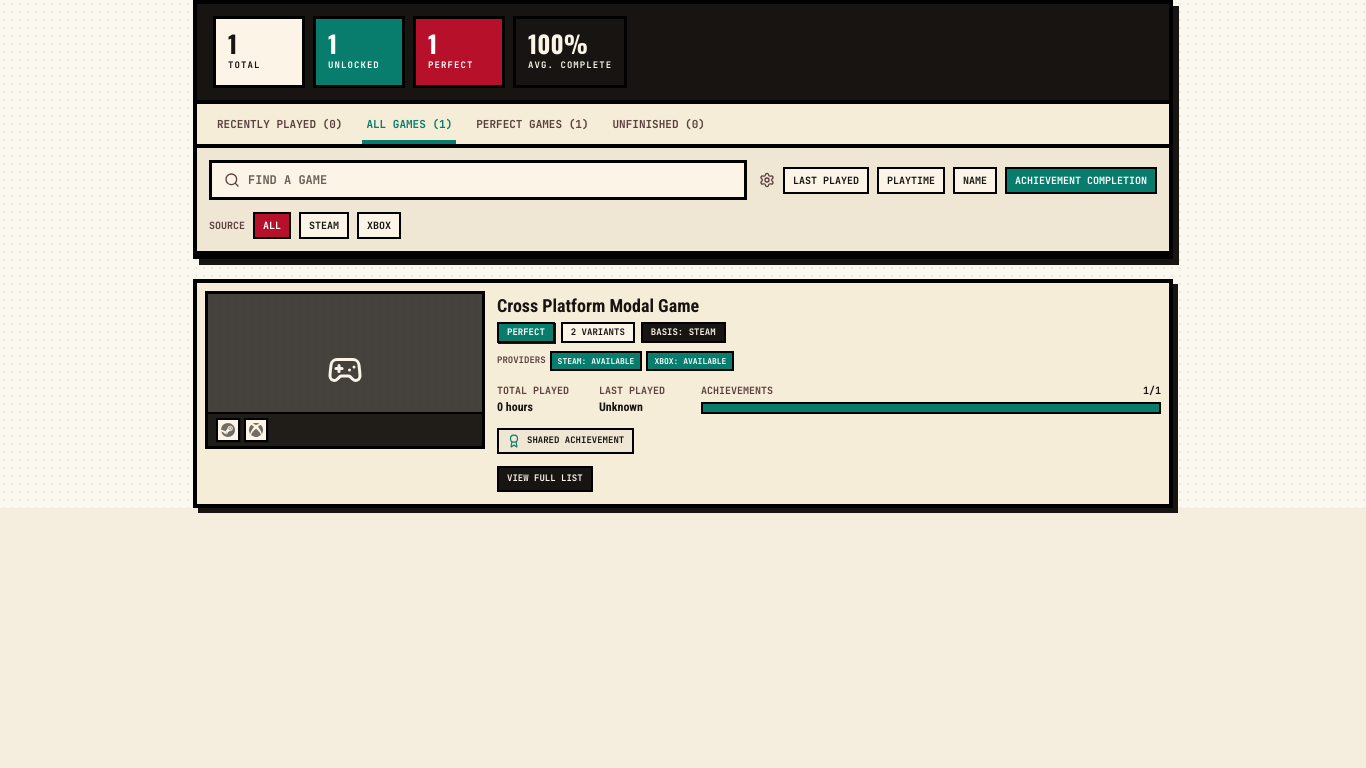
Test: AchievementsPage › keeps modal progress consistent with the row when additional achievements exist
Check: the text "1/1" is shown, box [1143,383,1161,398]
Click the button "View Full List": coordinates (545, 479) [497,466,593,492]
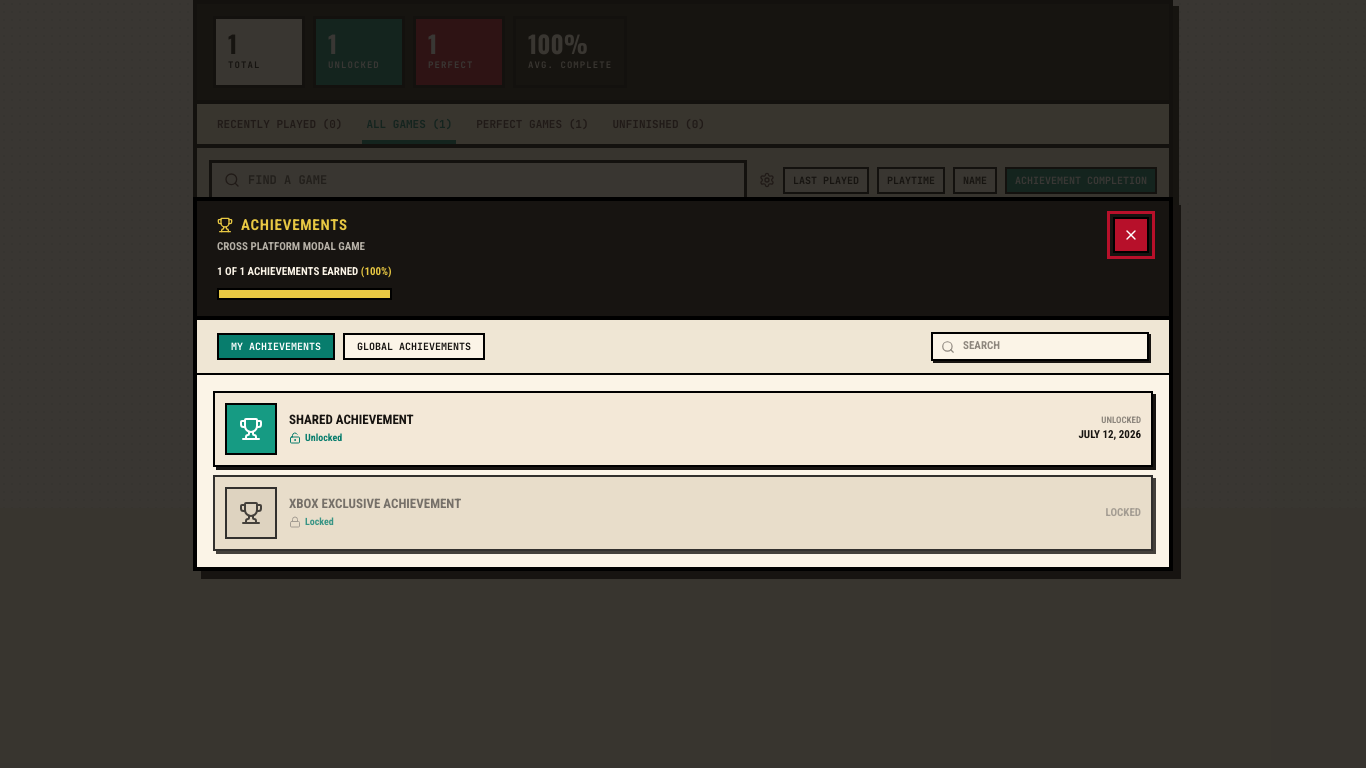
Check: the text "1 of 1 achievements earned" is shown, box [217,264,392,280]
Check: the text "Xbox Exclusive Achievement" is shown, box [289,496,461,511]
